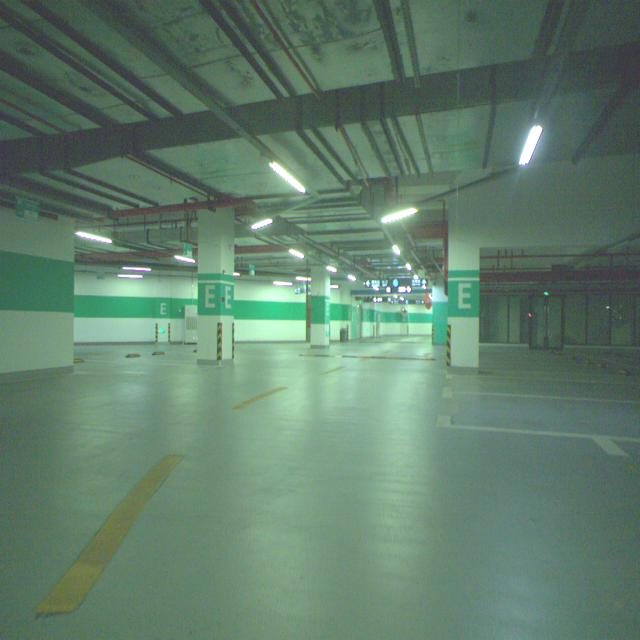pillar: (198, 208, 235, 364), (310, 266, 330, 348)
